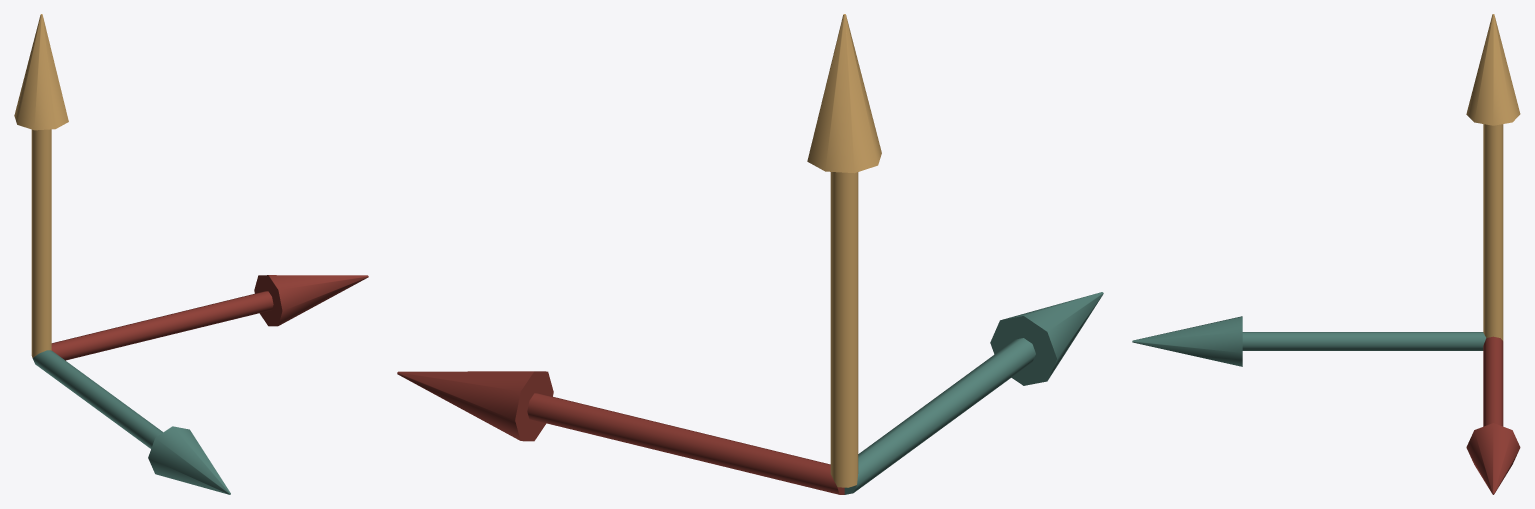
Rendered from axis_calibration.glb.
3 views of the same model, side by side, from view 1: azimuth 30°, elevation 25°; view 2: azimuth 150°, elevation 25°; view 3: azimuth 270°, elevation 25° (orthographic). The views are drawn at different scales.
Visible parts, largest first — view 1: prop_axis_calibration; view 2: prop_axis_calibration; view 3: prop_axis_calibration.
Part boxes in pixels (x1,y1,x2,y2): prop_axis_calibration: (14, 14, 368, 494); prop_axis_calibration: (397, 14, 1103, 494); prop_axis_calibration: (1132, 14, 1520, 494).
Bounding box in the file's own units: 0.387 × 0.387 × 0.387.
